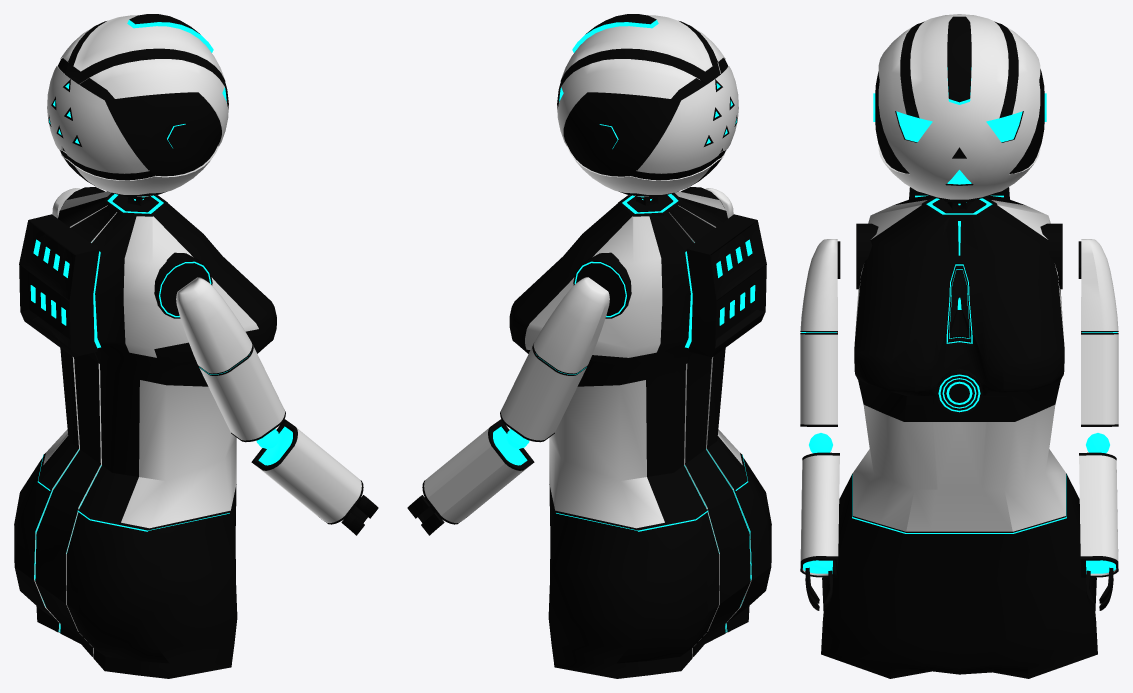
Rendered from PNJ.fbx.
3 views of the same model, side by side, from view 1: azimuth 30°, elevation 25°; view 2: azimuth 150°, elevation 25°; view 3: azimuth 270°, elevation 25° (orthographic). The views are drawn at different scales.
Visible parts, largest first — view 1: Cube, Icosphere, Cube.001; view 2: Cube, Icosphere, Cube.002; view 3: Cube, Icosphere, Cube.001, Cube.002.
Boxes of the visible parts, box(x1,y1,x2,y2) form: Cube: box(14, 187, 276, 678); Icosphere: box(47, 14, 228, 205); Cube.001: box(176, 277, 378, 535); Cube: box(509, 187, 771, 678); Icosphere: box(557, 14, 738, 205); Cube.002: box(407, 277, 609, 535); Cube: box(821, 187, 1097, 678); Icosphere: box(873, 14, 1046, 209); Cube.001: box(800, 239, 840, 610); Cube.002: box(1078, 239, 1118, 610).
Bounding box in the file's own units: 337 × 750 × 339.
